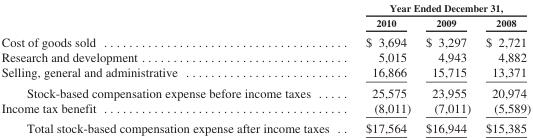table: (0, 1, 530, 134)
table column: (0, 1, 346, 134), (346, 1, 417, 134), (417, 1, 477, 134), (477, 1, 530, 134)
table column header: (0, 1, 530, 31)
table row: (0, 31, 530, 49), (0, 64, 530, 82), (0, 99, 530, 117), (0, 14, 530, 31), (0, 82, 530, 99), (0, 117, 530, 134), (0, 49, 530, 64), (0, 1, 530, 14)
table spanning cell: (346, 1, 530, 14)
